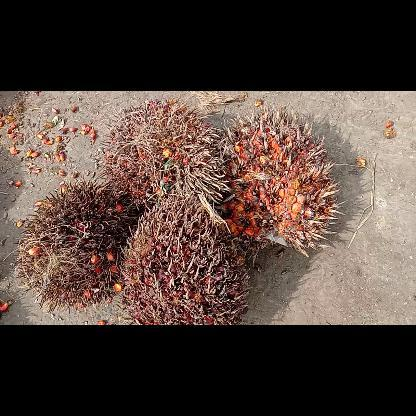Terlalu masak: (220, 105, 346, 257), (14, 174, 148, 312), (96, 95, 230, 233), (118, 194, 250, 324)
